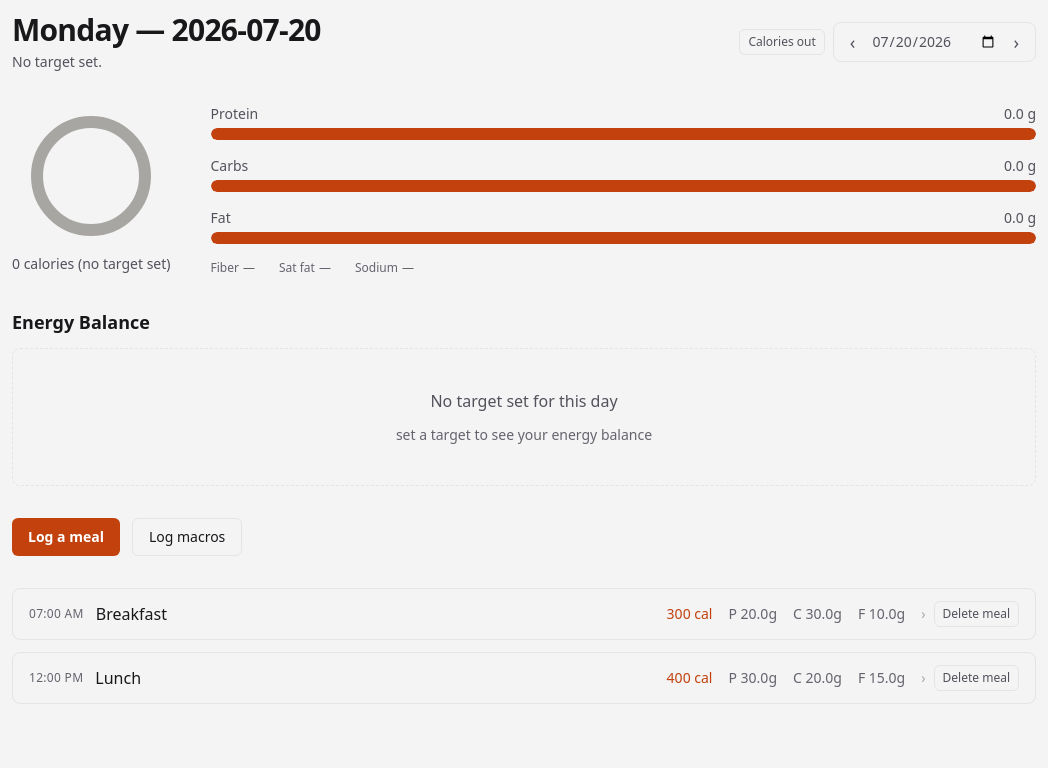
Test: DayView › expands multiple meal rows independently (per-row local state)
Click the button "07:00 AM Breakfast 300 cal P 20.0g C 30.0g F 10.0g ›". click: (56, 614)
box: [29, 602, 926, 626]
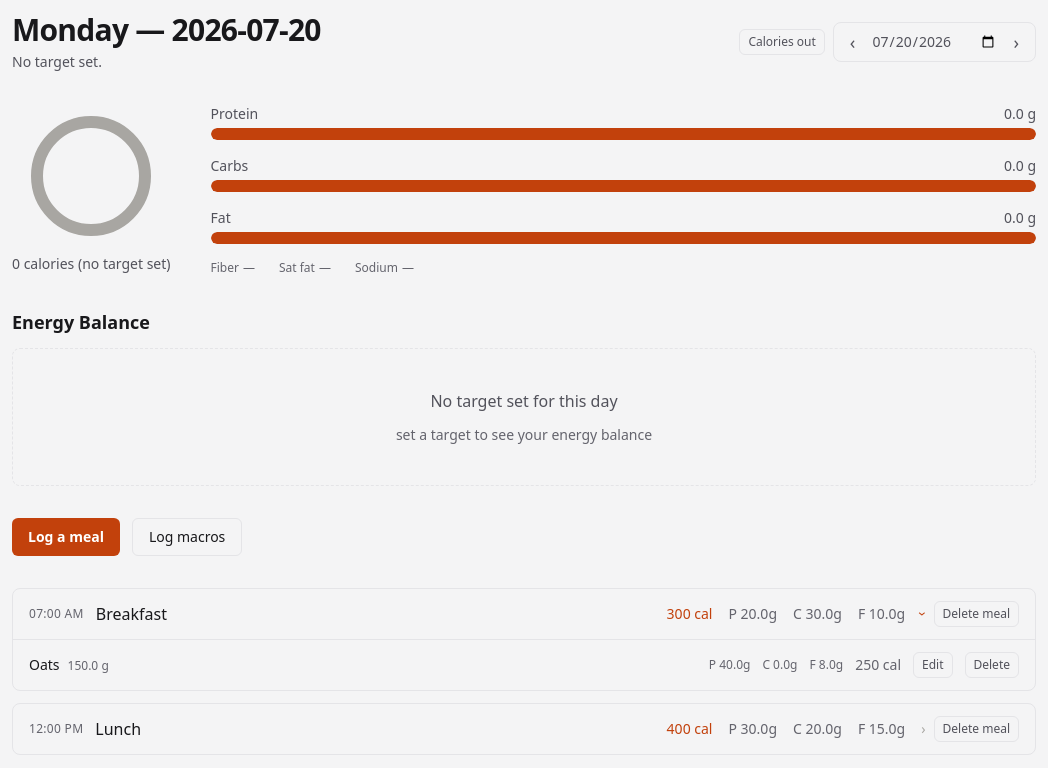
Expected: the text "Chicken salad" is not shown
Result: the text "Oats" is shown at [29, 655, 60, 675]
Click the button "12:00 PM Lunch 400 cal P 30.0g C 20.0g F 15.0g ›". click: (56, 728)
box: [29, 717, 926, 741]
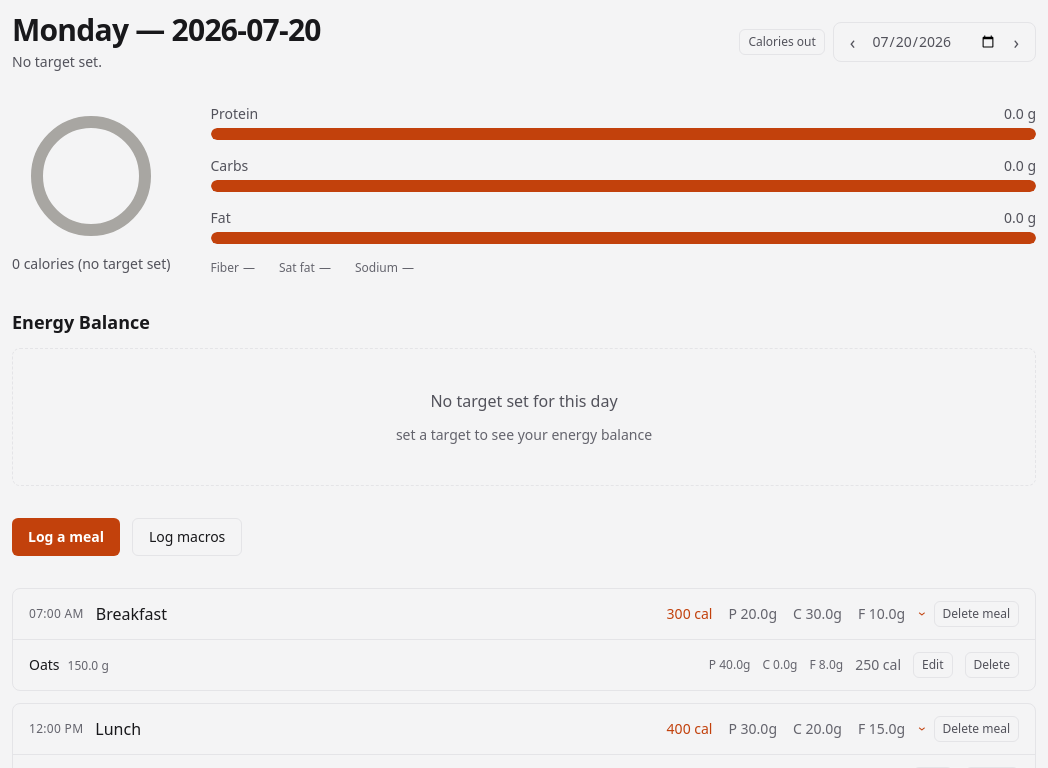
Result: the text "Oats" is shown at [29, 655, 60, 675]
Click the button "07:00 AM Breakfast 300 cal P 20.0g C 30.0g F 10.0g ›". click: (56, 614)
box: [29, 602, 926, 626]
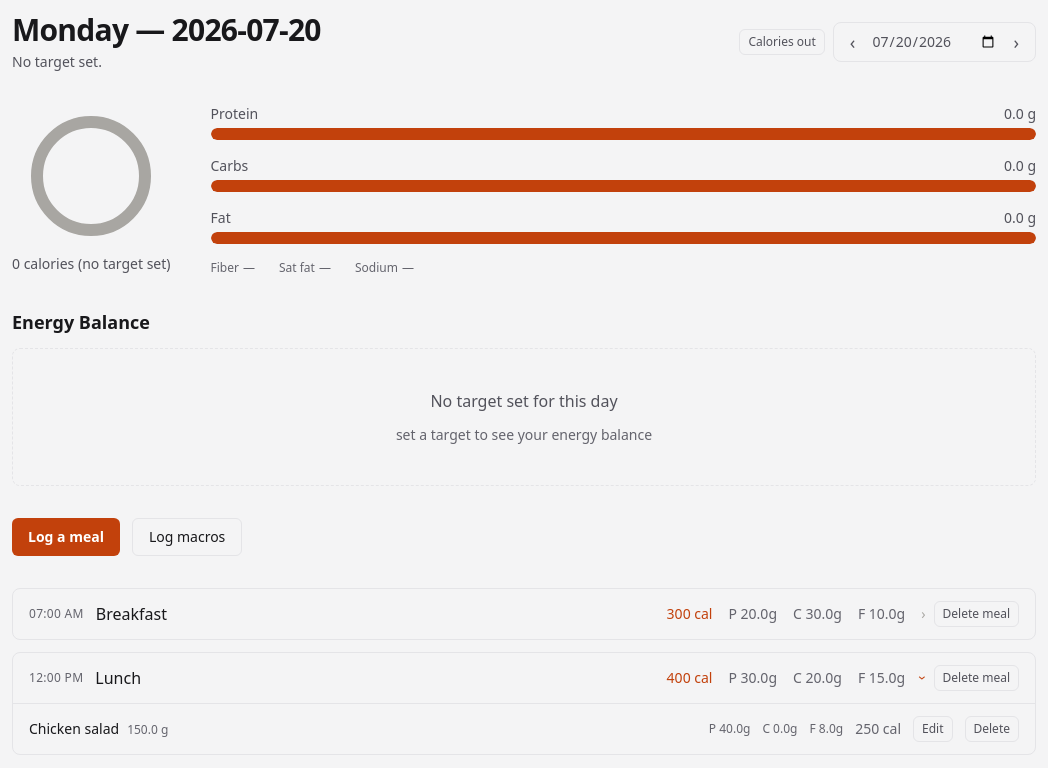
Result: the text "Chicken salad" is shown at [29, 719, 119, 739]
Result: the text "Oats" is gone
